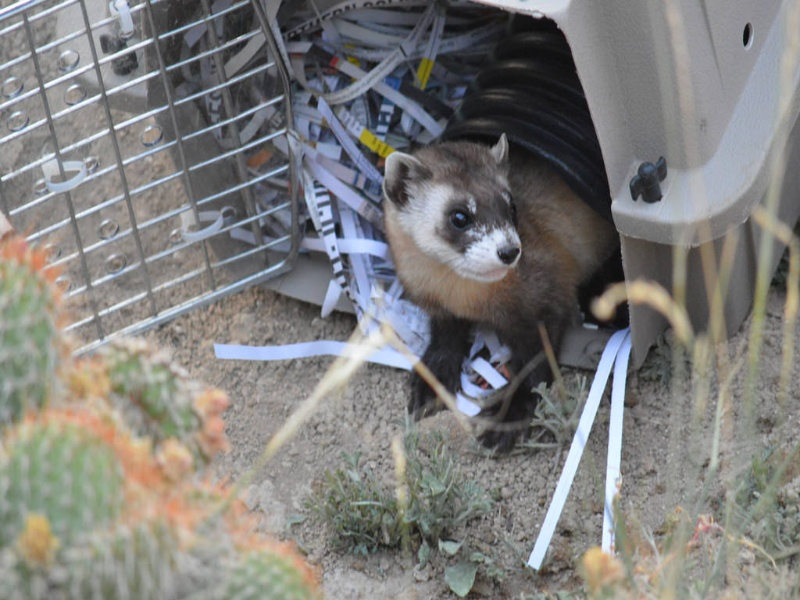minkish: (375, 130, 604, 466)
